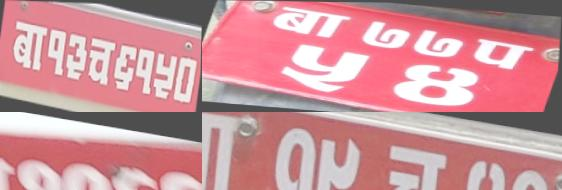0: (172, 51, 202, 108)
1: (259, 120, 323, 190), (48, 157, 127, 190), (42, 24, 72, 78), (131, 44, 157, 99)
2: (7, 153, 78, 190), (496, 157, 557, 190)
3: (63, 29, 92, 85)
4: (390, 62, 484, 106), (449, 149, 516, 190)
5: (276, 42, 373, 94), (151, 47, 179, 104)
6: (99, 159, 175, 190), (111, 40, 139, 94), (150, 161, 202, 190)
7: (411, 28, 466, 57), (359, 19, 413, 48)
9: (303, 128, 374, 190)
ba: (202, 112, 263, 190), (266, 5, 354, 39), (8, 15, 50, 75)
cha: (367, 134, 454, 190), (84, 34, 118, 90)
pa: (466, 36, 534, 71)
